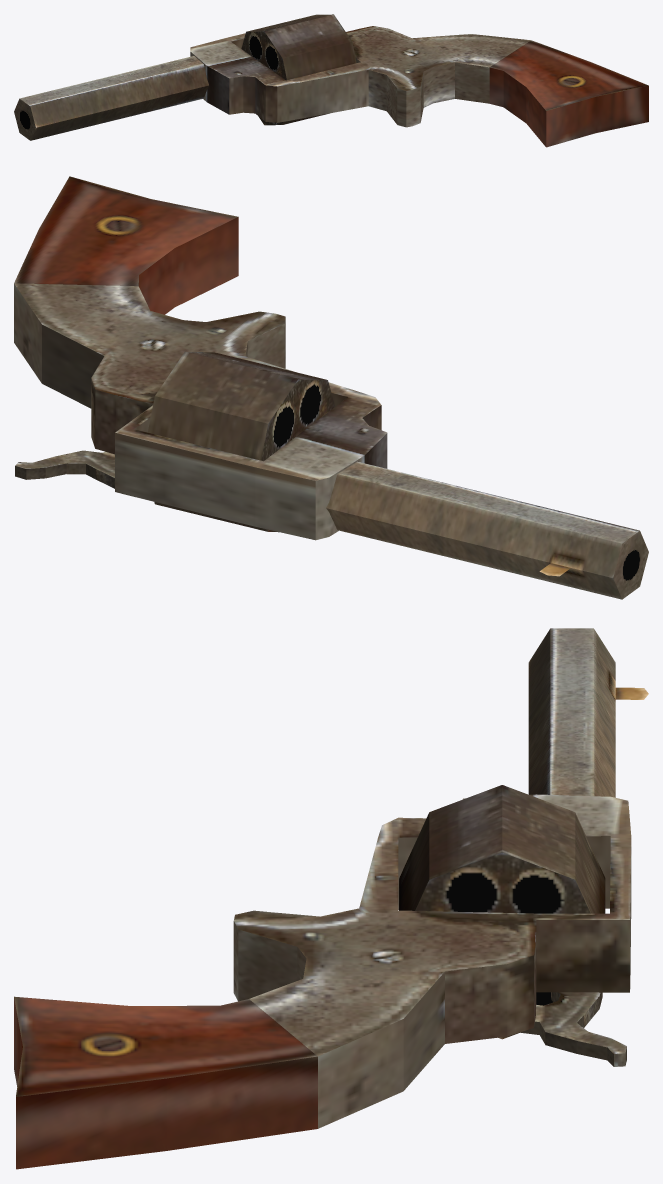
The model's file is pistol.fbx.
3 renders of one model, top to bottom at view 1: azimuth 30°, elevation 25°; view 2: azimuth 150°, elevation 25°; view 3: azimuth 270°, elevation 25°, orthographic. The views are drawn at different scales.
Parts seen in each view (by area): view 1: CW_Allen_Wheelockx, cylinder; view 2: CW_Allen_Wheelockx, cylinder, hammer; view 3: CW_Allen_Wheelockx, cylinder, hammer.
Boxes of the visible parts, bbox=[...] form: CW_Allen_Wheelockx: bbox=[14, 26, 648, 147]; cylinder: bbox=[241, 14, 356, 125]; CW_Allen_Wheelockx: bbox=[14, 176, 648, 599]; cylinder: bbox=[148, 351, 335, 532]; hammer: bbox=[15, 450, 114, 488]; CW_Allen_Wheelockx: bbox=[14, 628, 648, 1169]; cylinder: bbox=[399, 785, 605, 1039]; hammer: bbox=[520, 992, 626, 1066].
Size of the model in its own units: 13.92 by 2.58 by 7.94.
